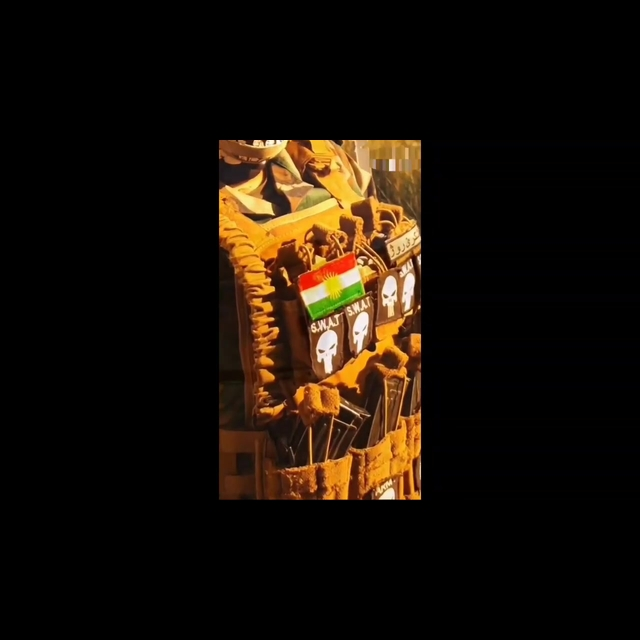IBKY: (297, 253, 368, 313)
